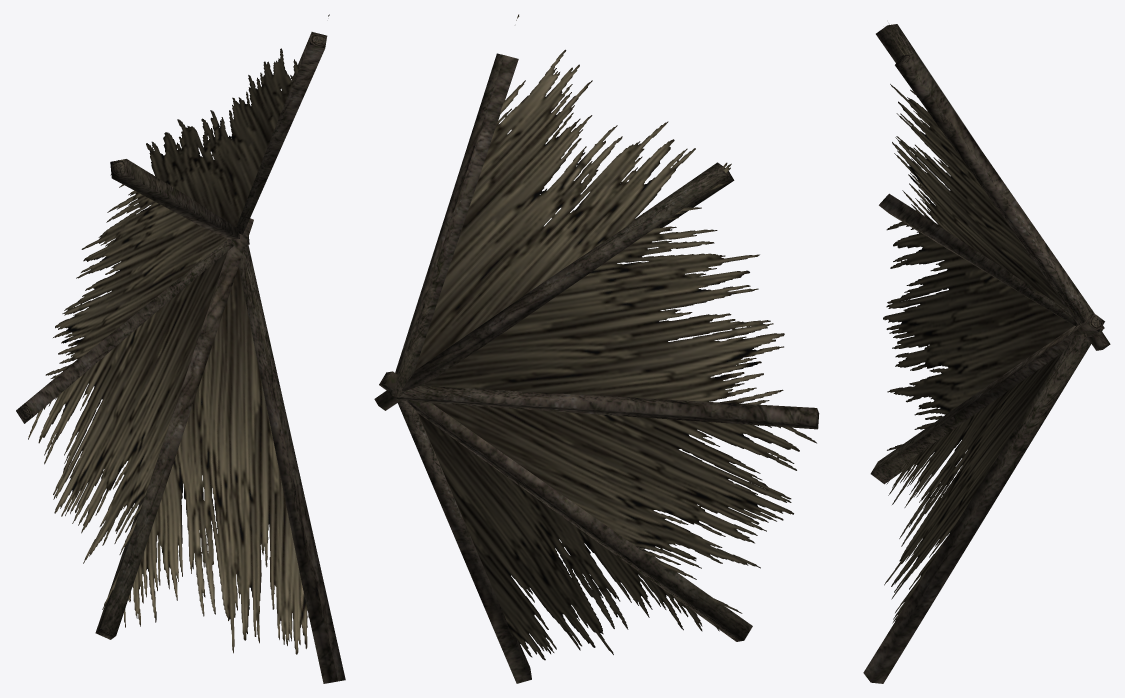
File: MEP_Roof_03.fbx
The picture shows the model from 3 angles, left to right: view 1: azimuth 30°, elevation 25°; view 2: azimuth 150°, elevation 25°; view 3: azimuth 270°, elevation 25°; orthographic projection.
Visible parts, largest first — view 1: MEP_Roof_03; view 2: MEP_Roof_03; view 3: MEP_Roof_03.
Part boxes in pixels (x1,y1,x2,y2): MEP_Roof_03: [16, 14, 345, 683]; MEP_Roof_03: [374, 14, 819, 683]; MEP_Roof_03: [863, 24, 1110, 683].
Size of the model in its own units: 2.55 by 4.7 by 1.6.
